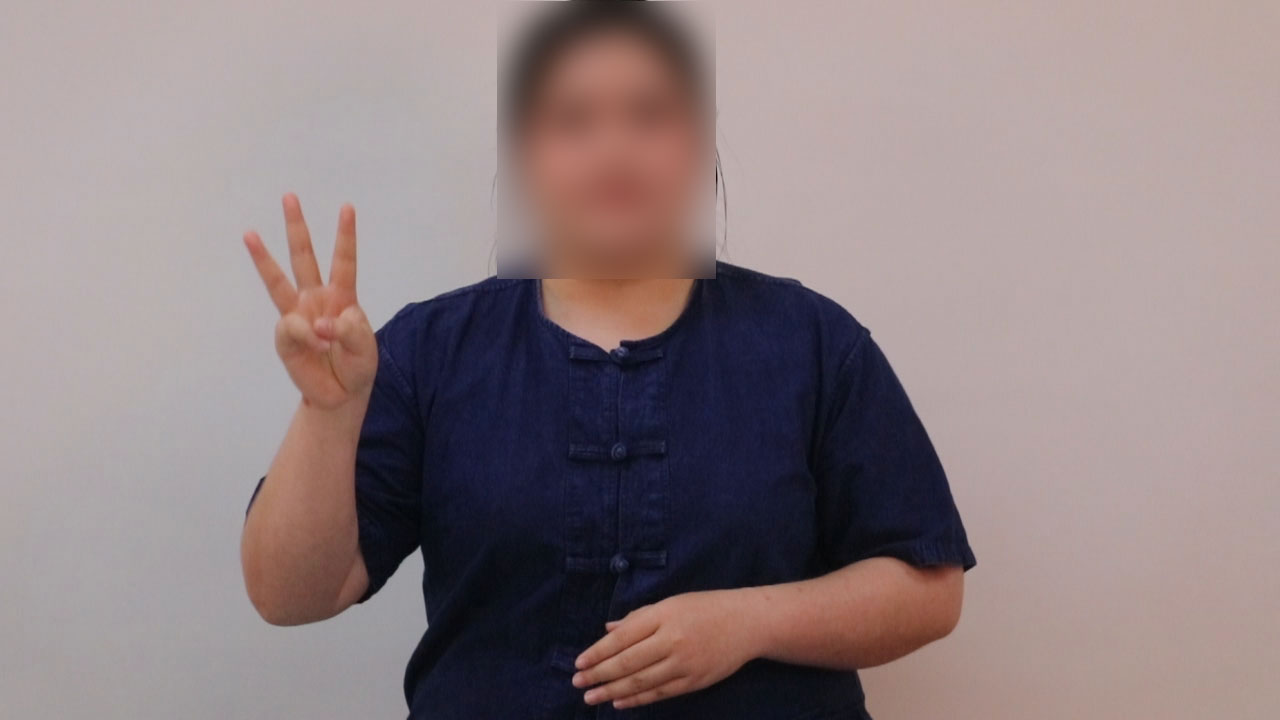wor: (236, 183, 385, 412)
